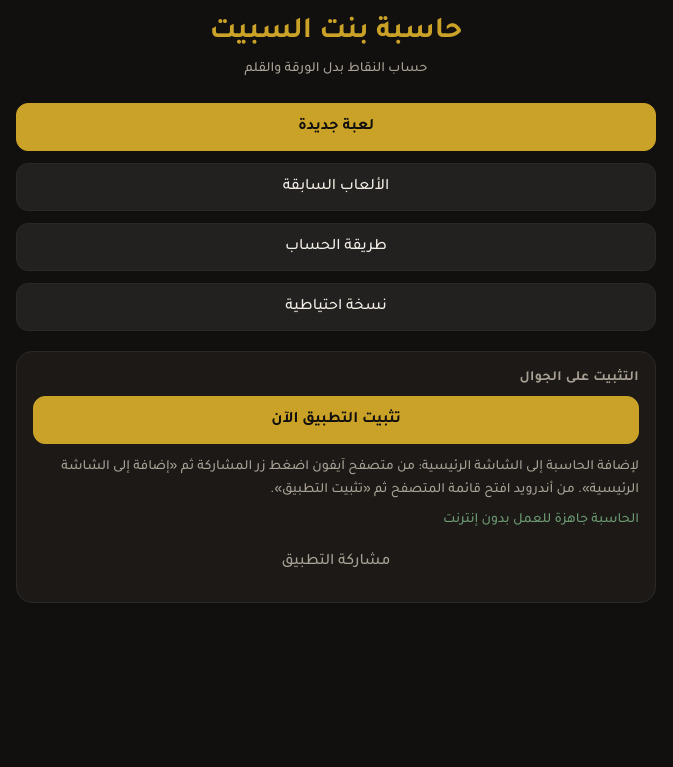
Test: installing the app › offers a one-tap install button once the browser says the app qualifies
The image size is (673, 767).
Click the button "تثبيت التطبيق الآن". click: (336, 420)
box: [33,396,639,444]
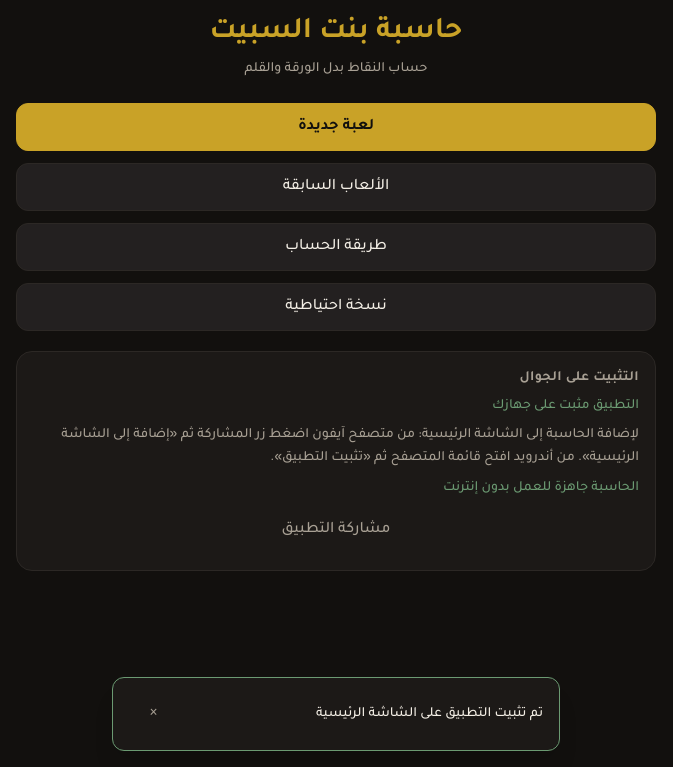
Now the text "تم تثبيت التطبيق على الشاشة الرئيسية" is shown, box [316,703,543,725]
